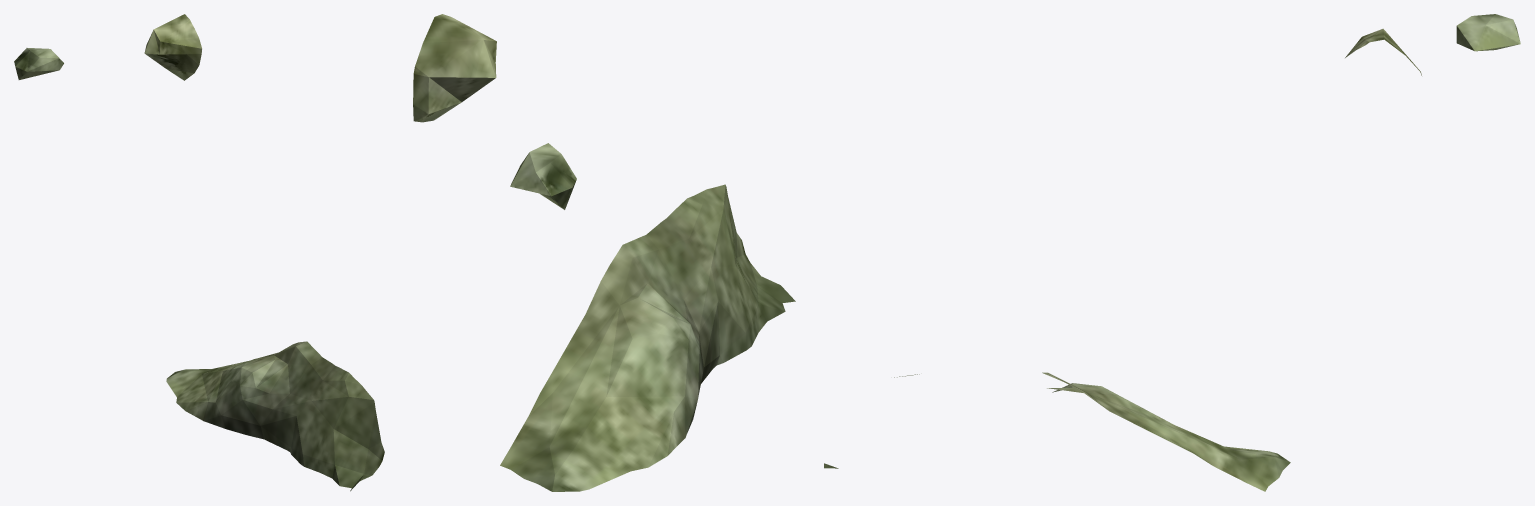
The picture shows the model from 3 angles, left to right: view 1: azimuth 30°, elevation 25°; view 2: azimuth 150°, elevation 25°; view 3: azimuth 270°, elevation 25°; orthographic projection. The views are drawn at different scales.
Bounding box in the file's own units: 0.8809 × 2.1 × 2.93.
1 material, 1 textured.
